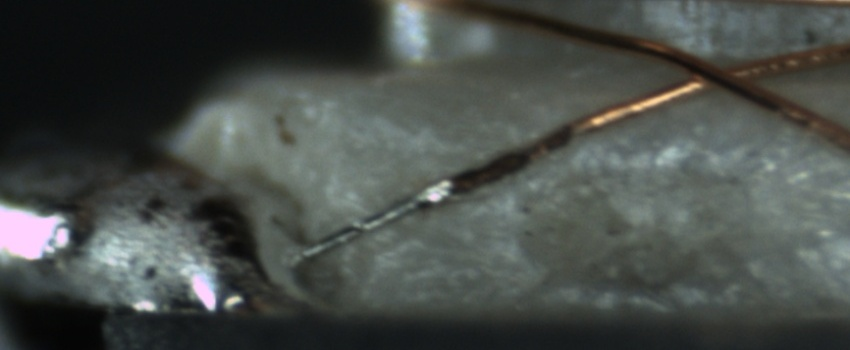CL: (652, 47, 796, 101)
DL: (485, 139, 850, 196)
TS: (303, 180, 452, 259)
TTCW: (281, 156, 504, 273)
